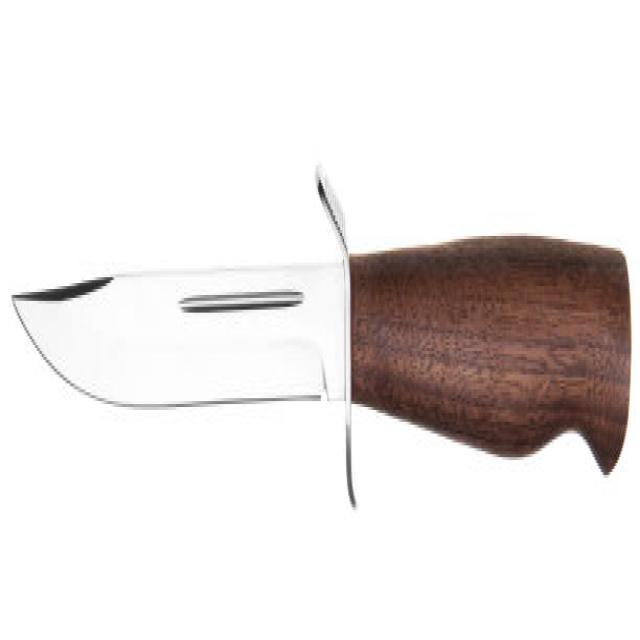knife: (11, 146, 639, 537)
